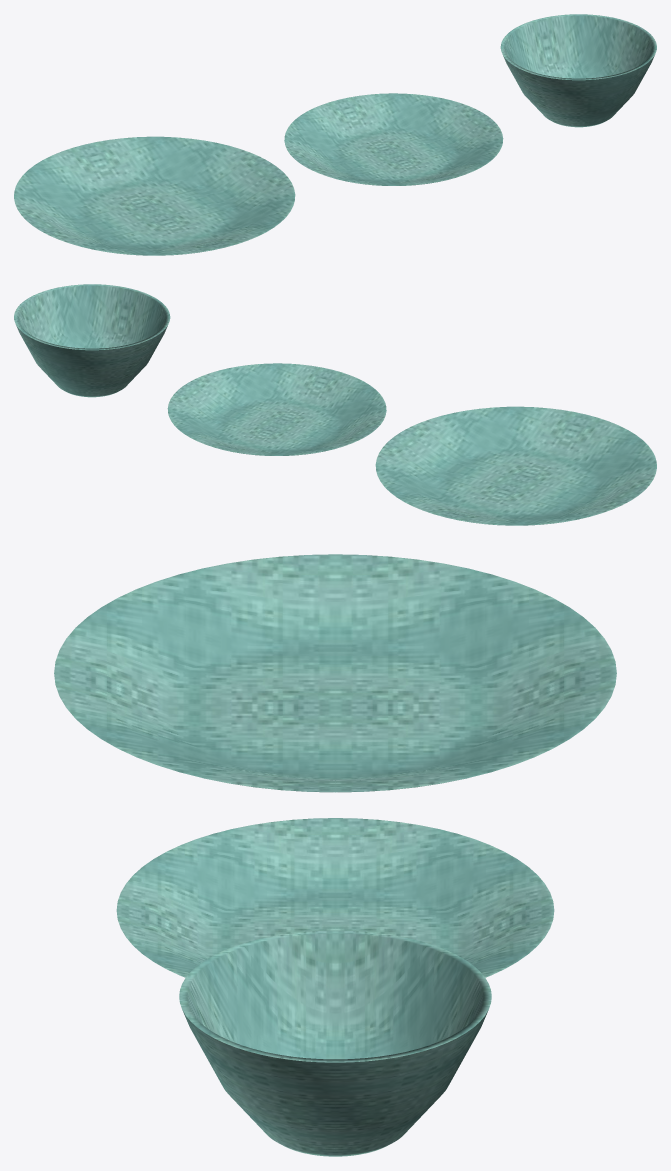
The picture shows the model from 3 angles, top to bottom: view 1: azimuth 30°, elevation 25°; view 2: azimuth 150°, elevation 25°; view 3: azimuth 270°, elevation 25°; orthographic projection. The views are drawn at different scales.
Bounding box in the file's own units: 0.68 × 0.07 × 0.27.
6 materials, 6 textured.
